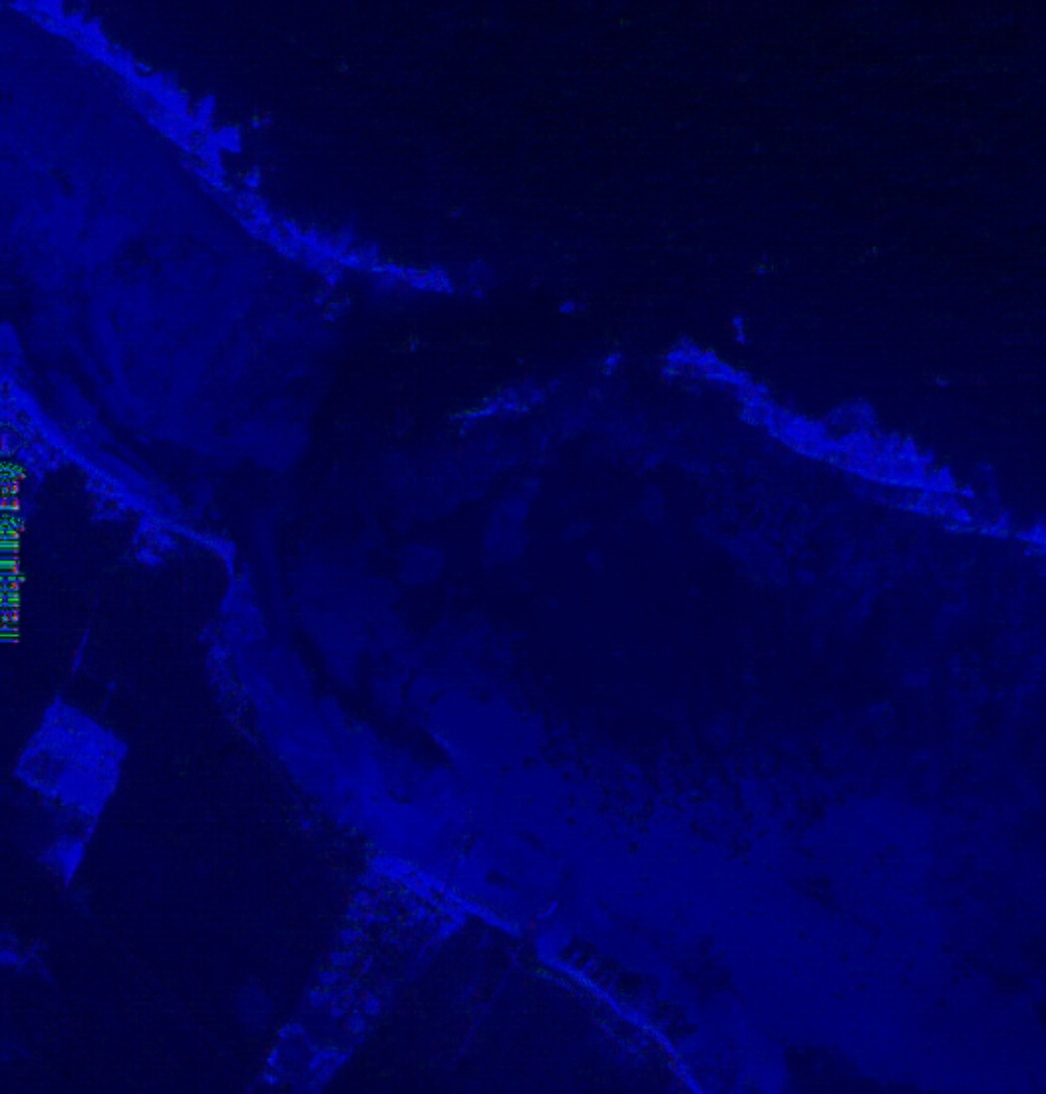rip_current: (293, 255, 676, 410)
